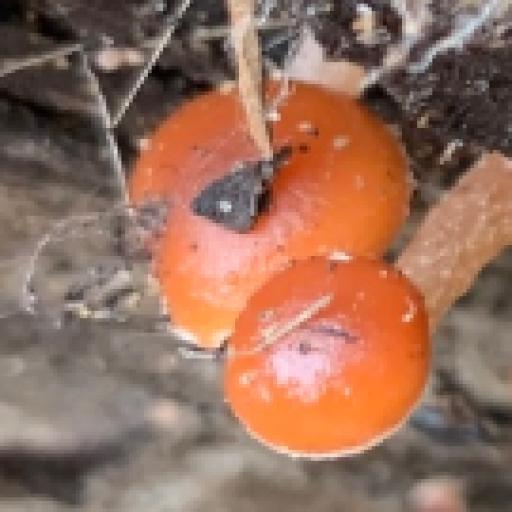mushroom: (129, 56, 504, 470)
